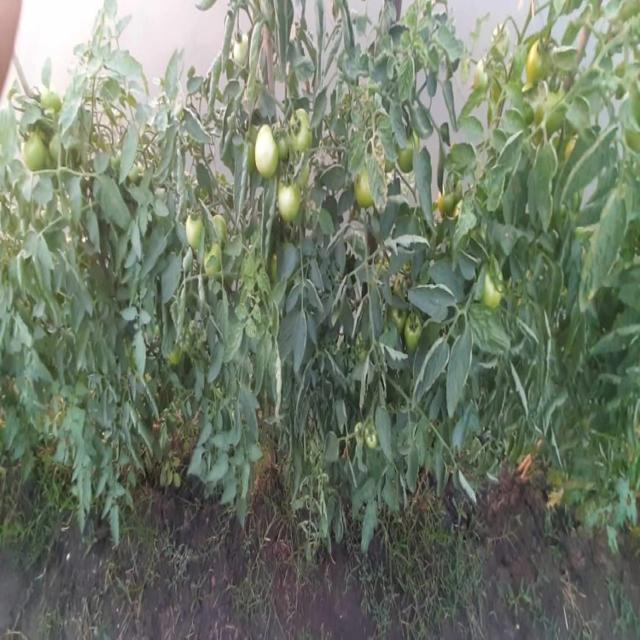tomato: (254, 130, 280, 180), (277, 178, 299, 228), (527, 36, 549, 85), (24, 131, 48, 175), (479, 276, 508, 311), (182, 211, 207, 251), (353, 175, 377, 208), (288, 111, 309, 148), (402, 318, 424, 351), (365, 426, 384, 457), (387, 305, 405, 334), (236, 33, 252, 65), (395, 149, 416, 173), (42, 91, 63, 112), (436, 194, 454, 218)
